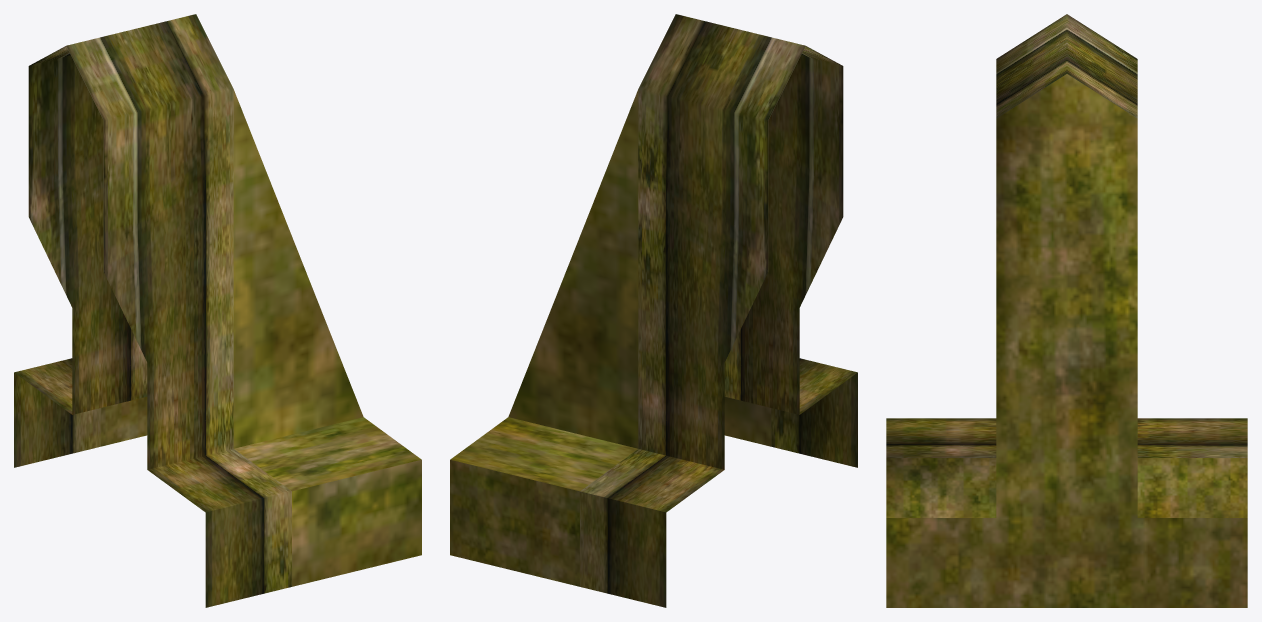
File: OVERHILL_A_01_OBJECT66.fbx
3 renders of one model, left to right at view 1: azimuth 30°, elevation 25°; view 2: azimuth 150°, elevation 25°; view 3: azimuth 270°, elevation 25°, orthographic. The views are drawn at different scales.
Parts seen in each view (by area): view 1: OVERHILL_A_01_OBJECT66; view 2: OVERHILL_A_01_OBJECT66; view 3: OVERHILL_A_01_OBJECT66.
Boxes of the visible parts, x1,y1,x2,y2 form: OVERHILL_A_01_OBJECT66: (14,14,421,607); OVERHILL_A_01_OBJECT66: (450,14,857,607); OVERHILL_A_01_OBJECT66: (886,14,1247,607).
Bounding box in the file's own units: 5838 × 10795 × 7447.
Materials: 2 (2 with a texture image).
